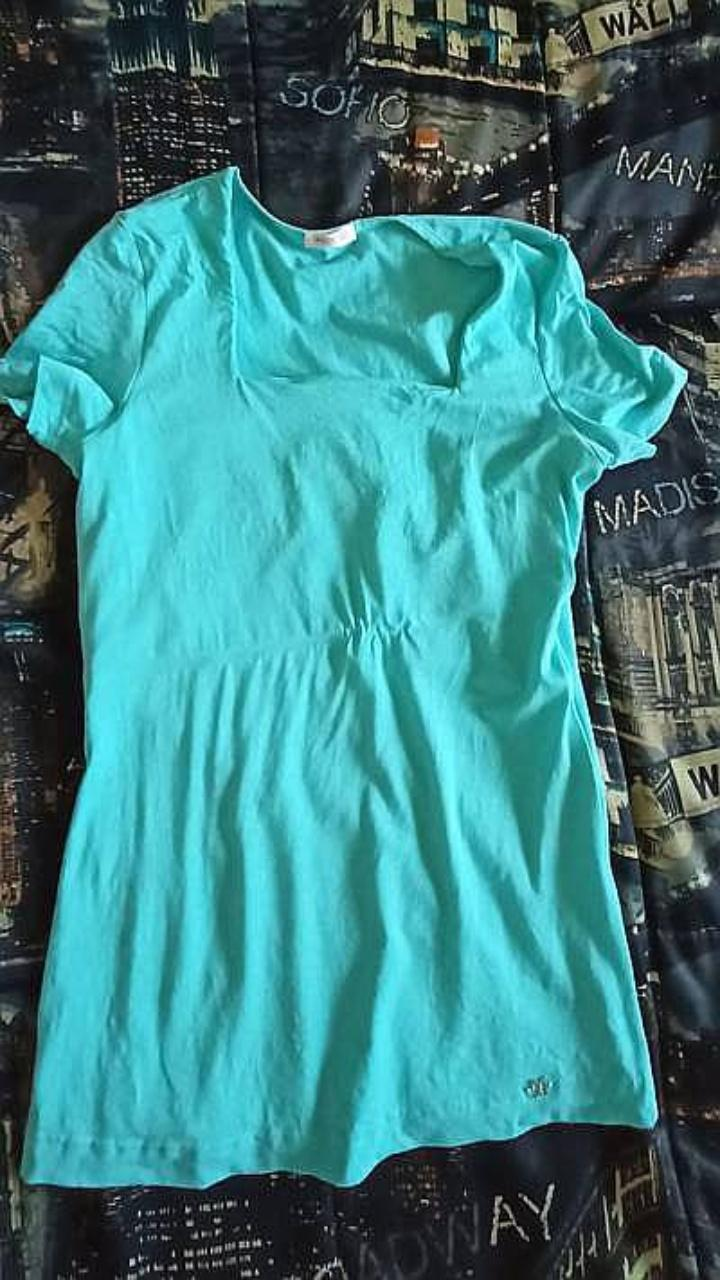T-Shirt: (0, 166, 686, 1186)
